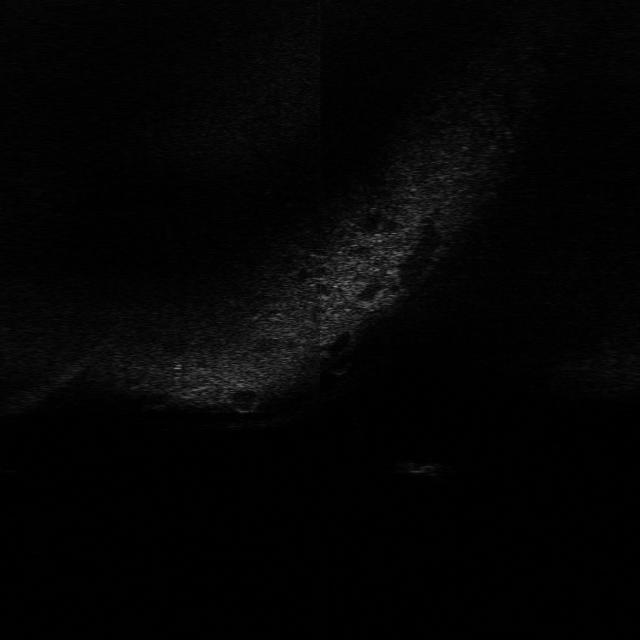ball: (322, 353, 356, 378)
cube: (388, 458, 453, 479)
